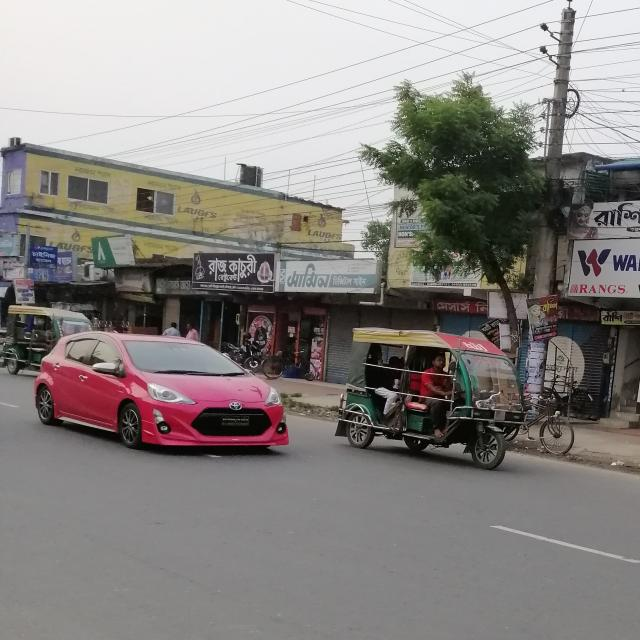Car: (34, 332, 292, 452)
Easybike: (335, 326, 529, 460)
